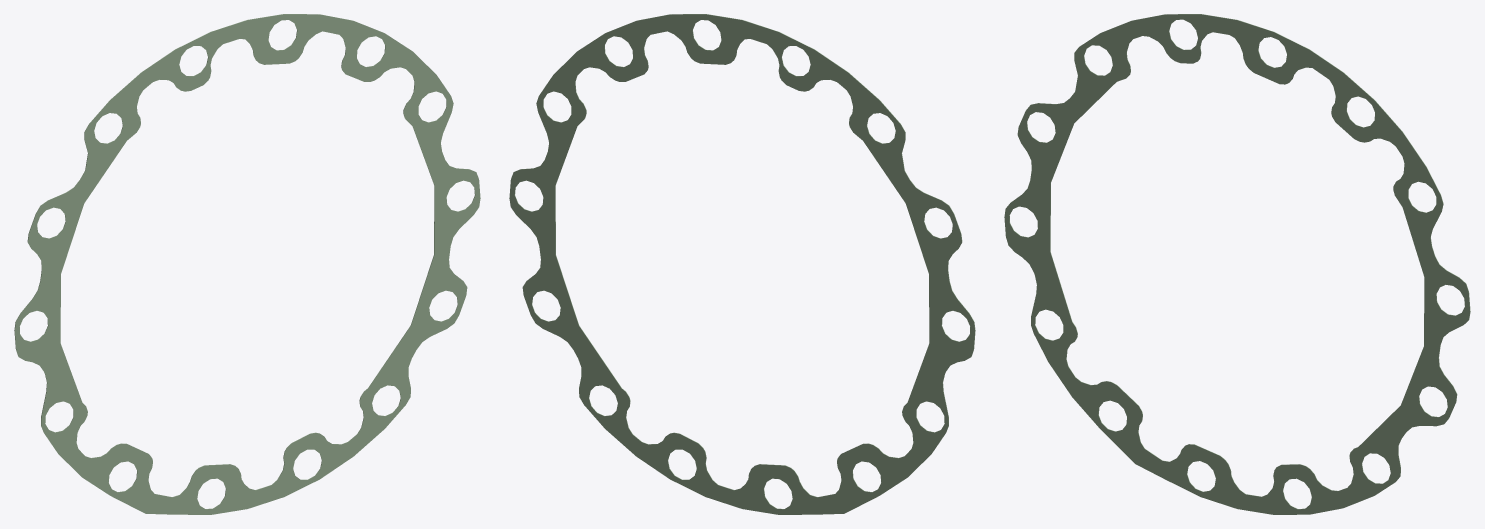
The model's file is mifengpian_qian.FBX.
3 views of the same model, side by side, from view 1: azimuth 30°, elevation 25°; view 2: azimuth 150°, elevation 25°; view 3: azimuth 330°, elevation 25° (orthographic).
Visible parts, largest first — view 1: mifengpian_qian; view 2: mifengpian_qian; view 3: mifengpian_qian.
Boxes of the visible parts, bbox=[...] form: mifengpian_qian: bbox=[14, 14, 480, 514]; mifengpian_qian: bbox=[509, 14, 975, 514]; mifengpian_qian: bbox=[1004, 14, 1470, 514].
Bounding box in the file's own units: 299 × 300 × 0.388.
